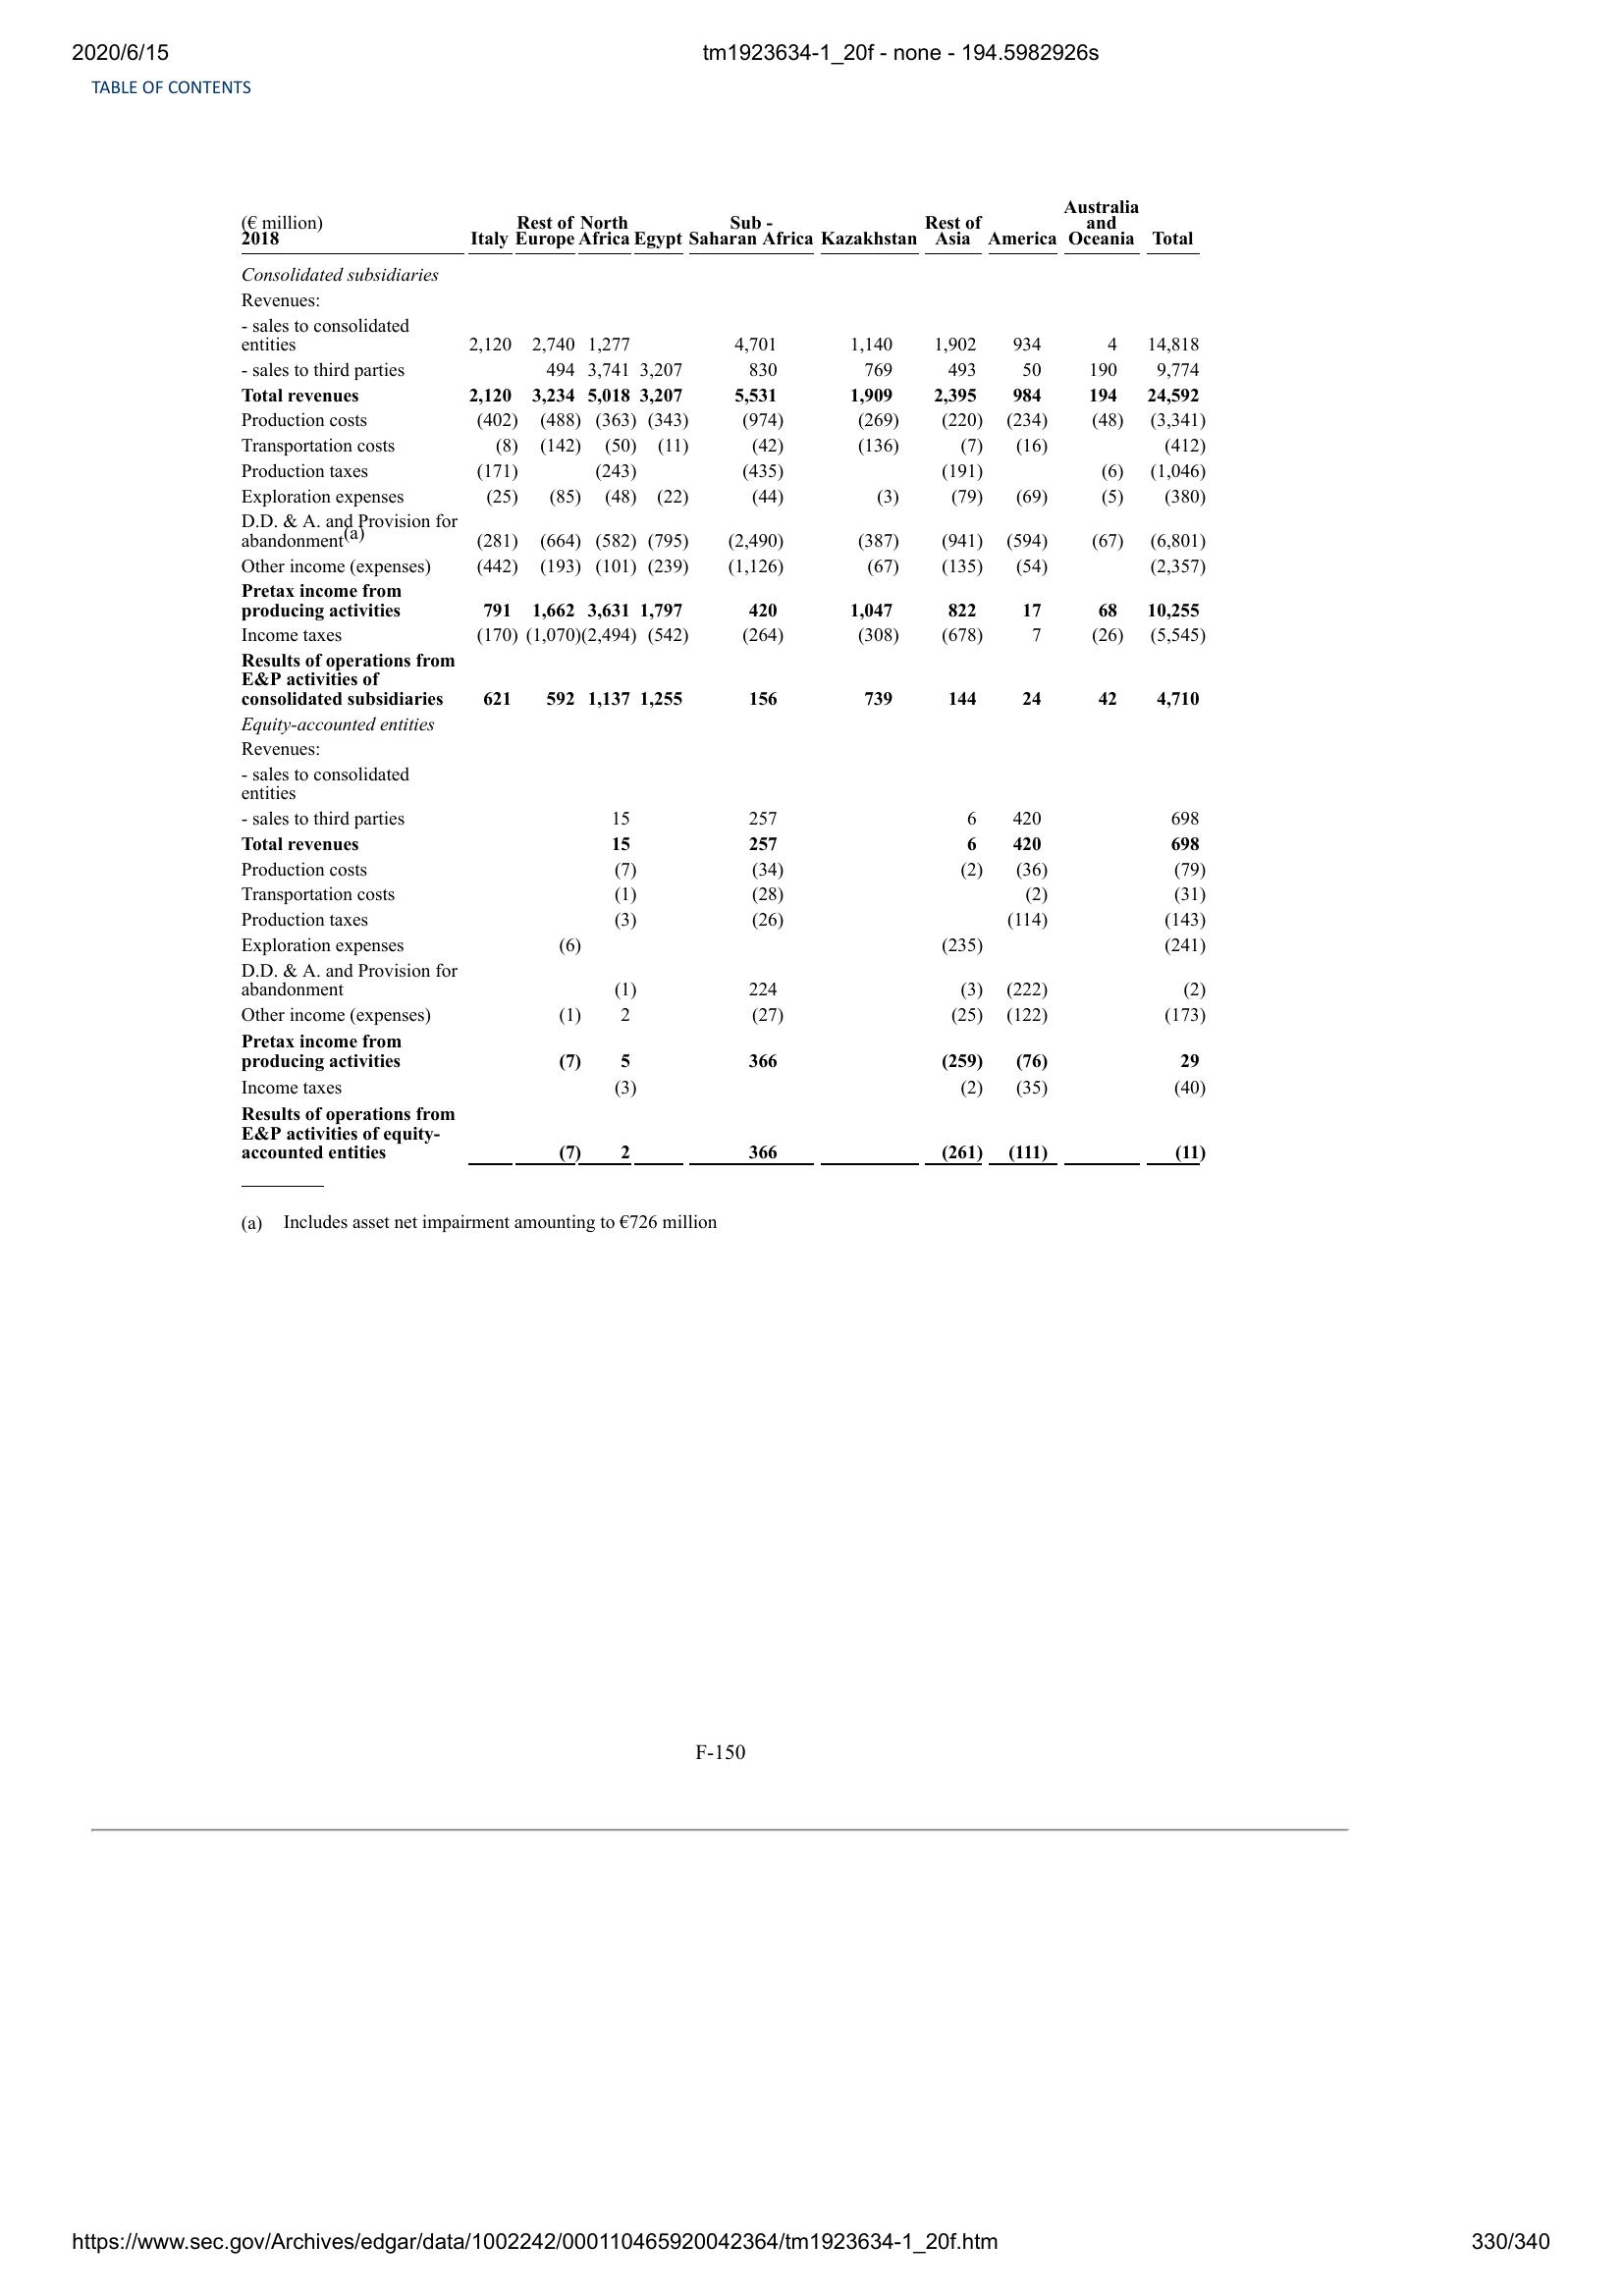table: (235, 200, 1214, 1167)
